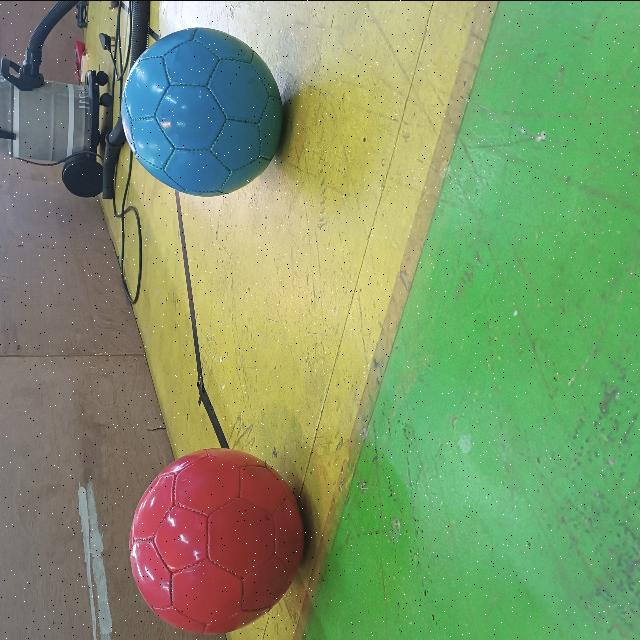B: (120, 24, 284, 198)
R: (127, 446, 307, 636)
